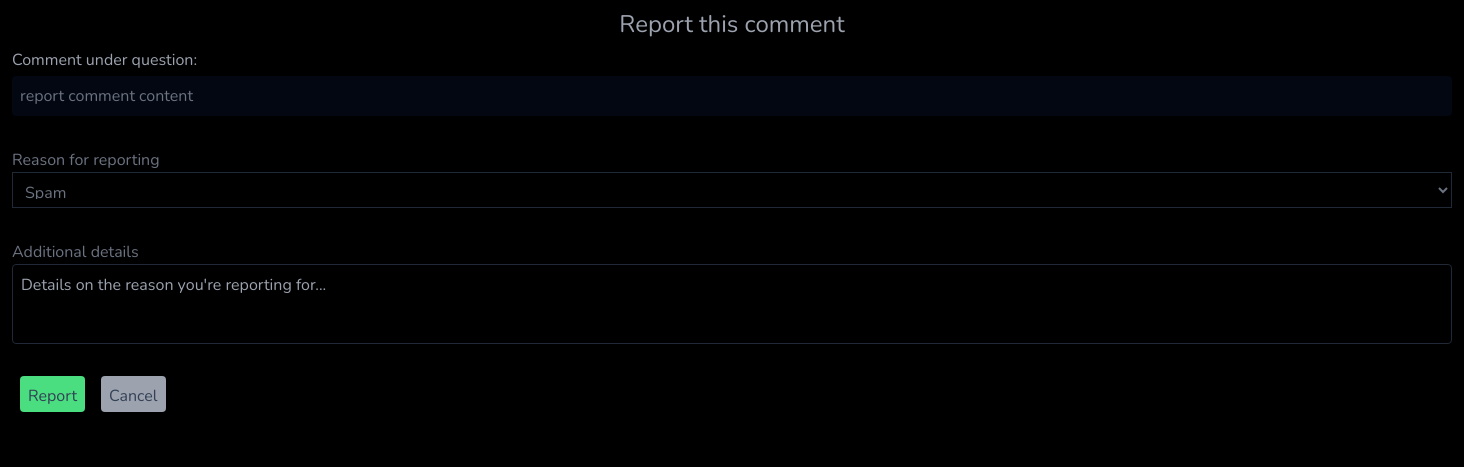
Scenario: TopicDetailsReportCommentModalContent › should show error if form is submitted without selecting reason or adding details
Click the button "Report" at coordinates (52, 394), box top-left (20, 376), bottom-right (85, 412)
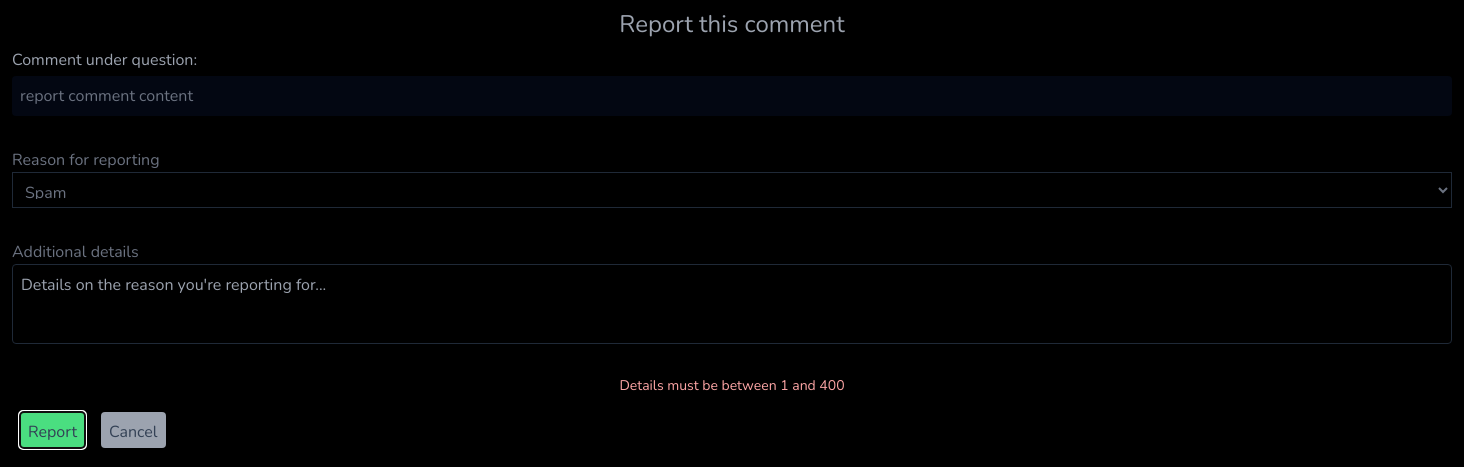
Check: the text "Details must be between 1 and 400" is shown, box top-left (619, 376), bottom-right (845, 396)
